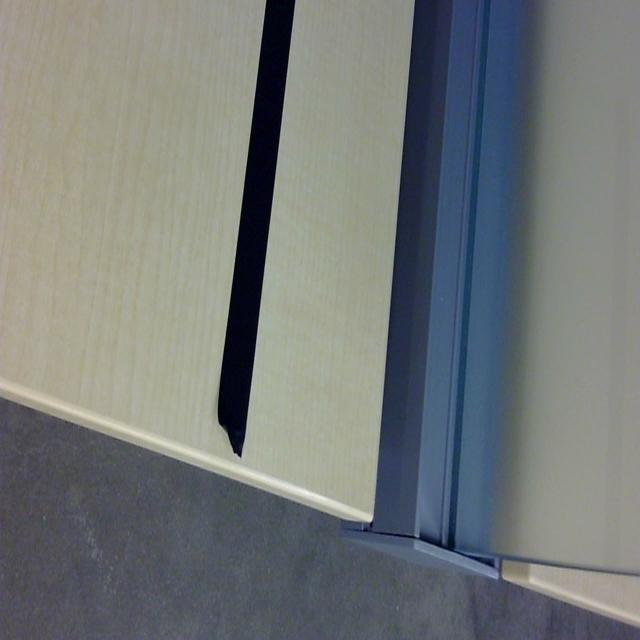tape: (216, 0, 296, 460)
